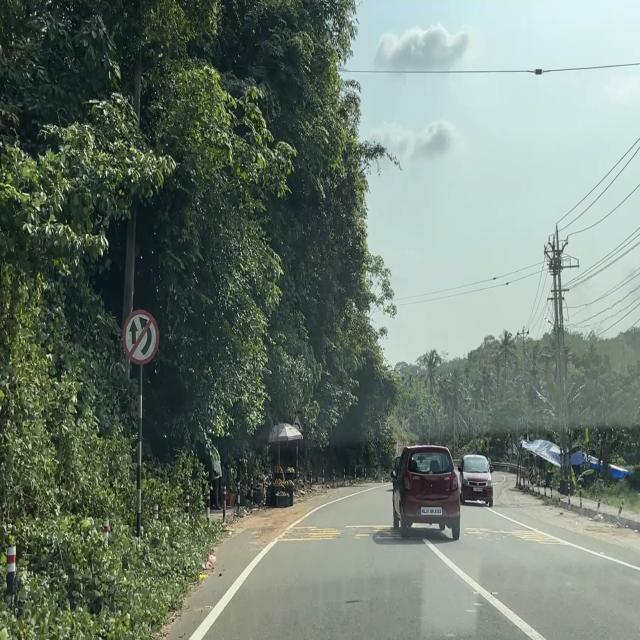OVERTAKING_PROHIBITED: (122, 308, 160, 366)
